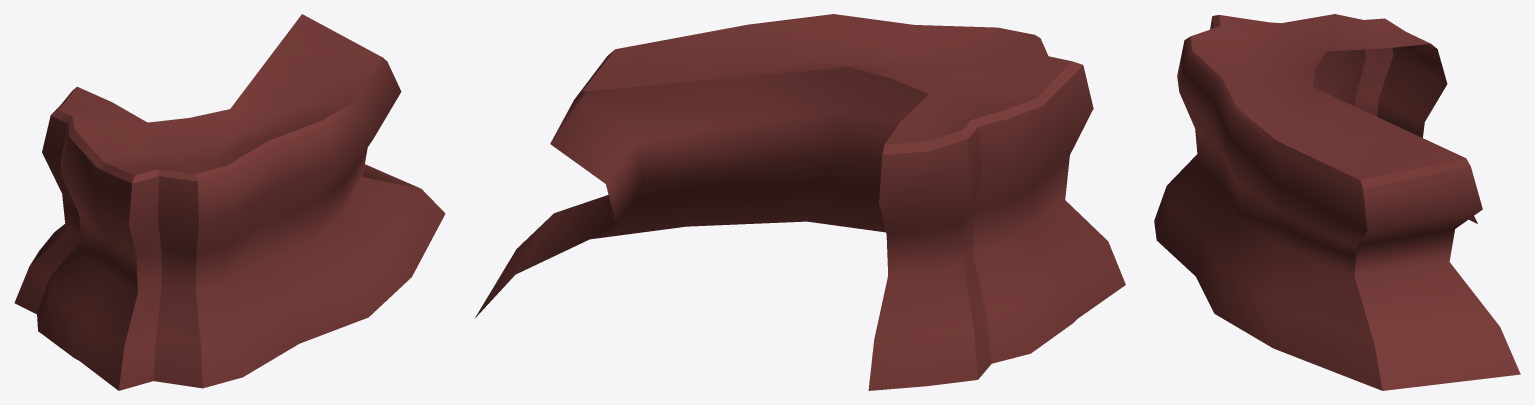
File: Canyon_D.fbx
3 views of the same model, side by side, from view 1: azimuth 30°, elevation 25°; view 2: azimuth 150°, elevation 25°; view 3: azimuth 270°, elevation 25° (orthographic). The views are drawn at different scales.
Parts seen in each view (by area): view 1: Canyon_D; view 2: Canyon_D; view 3: Canyon_D.
Boxes of the visible parts, <box> form: Canyon_D: <box>14,14,445,390</box>; Canyon_D: <box>475,14,1125,390</box>; Canyon_D: <box>1154,14,1520,390</box>.
Size of the model in its own units: 11382 by 5042 by 8778.
